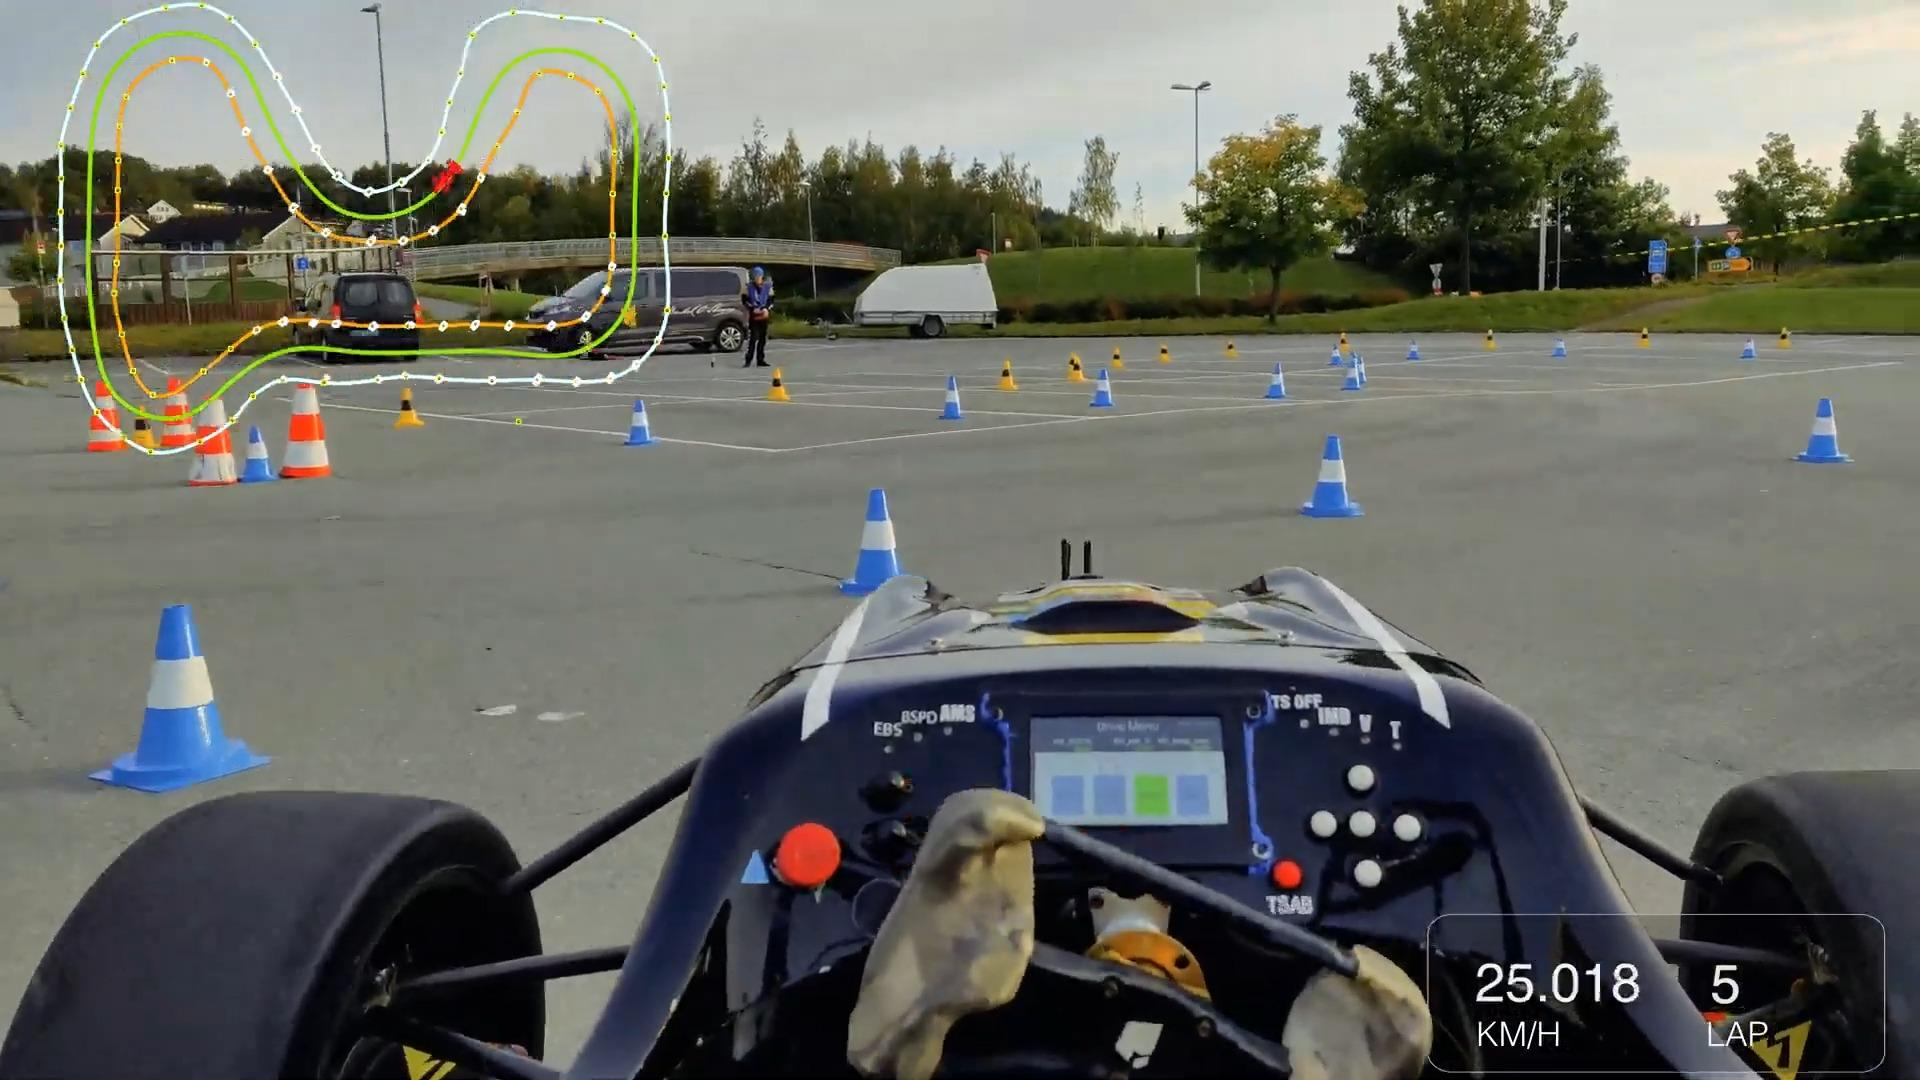blue_cone: (112, 583, 253, 794), (835, 465, 918, 596), (1280, 419, 1375, 529), (1787, 389, 1859, 480), (615, 390, 669, 473), (926, 361, 980, 431), (244, 425, 268, 473), (1096, 375, 1121, 402)
large_orange_cone: (75, 375, 133, 460), (289, 386, 344, 472), (160, 376, 196, 444), (203, 400, 235, 475)
